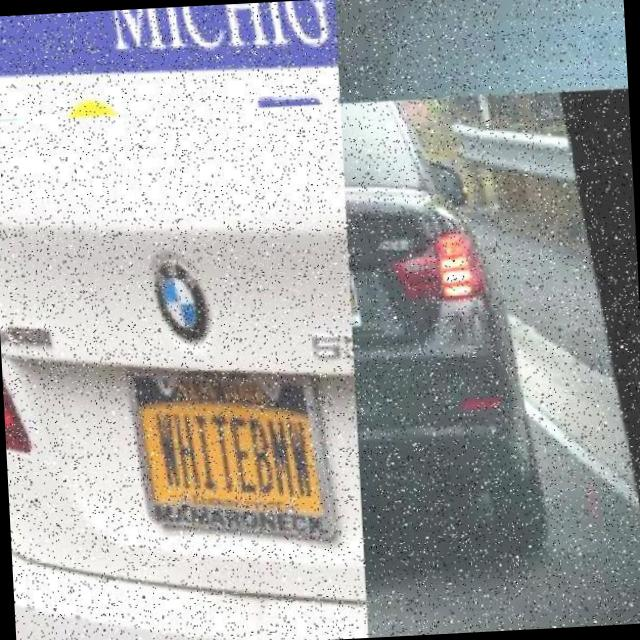LicensePlate: (116, 361, 327, 534), (334, 0, 600, 104), (348, 254, 388, 326)
